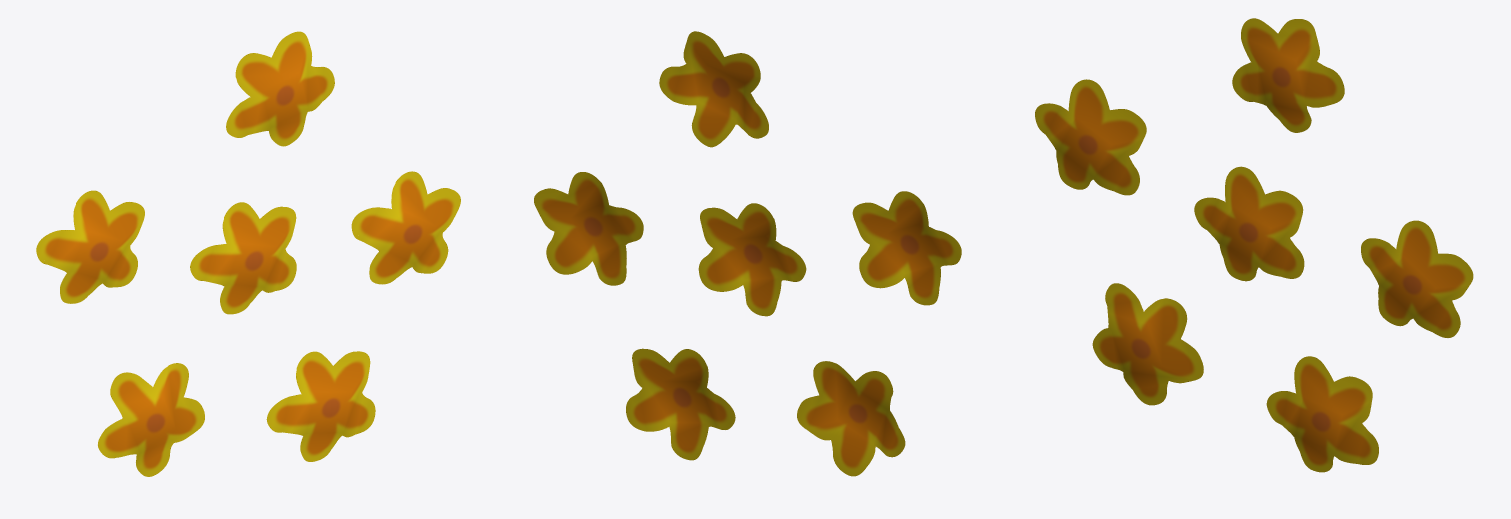
Rendered from YellowFlower.fbx.
3 views of the same model, side by side, from view 1: azimuth 30°, elevation 25°; view 2: azimuth 150°, elevation 25°; view 3: azimuth 330°, elevation 25° (orthographic). The views are drawn at different scales.
Parts seen in each view (by area): view 1: YellowFlower; view 2: YellowFlower; view 3: YellowFlower.
Boxes of the visible parts, x1=… form: YellowFlower: x1=36, y1=31, x2=460, y2=476; YellowFlower: x1=534, y1=31, x2=961, y2=476; YellowFlower: x1=1035, y1=18, x2=1473, y2=472.
Bounding box in the file's own units: 824 × 776 × 29.3.
